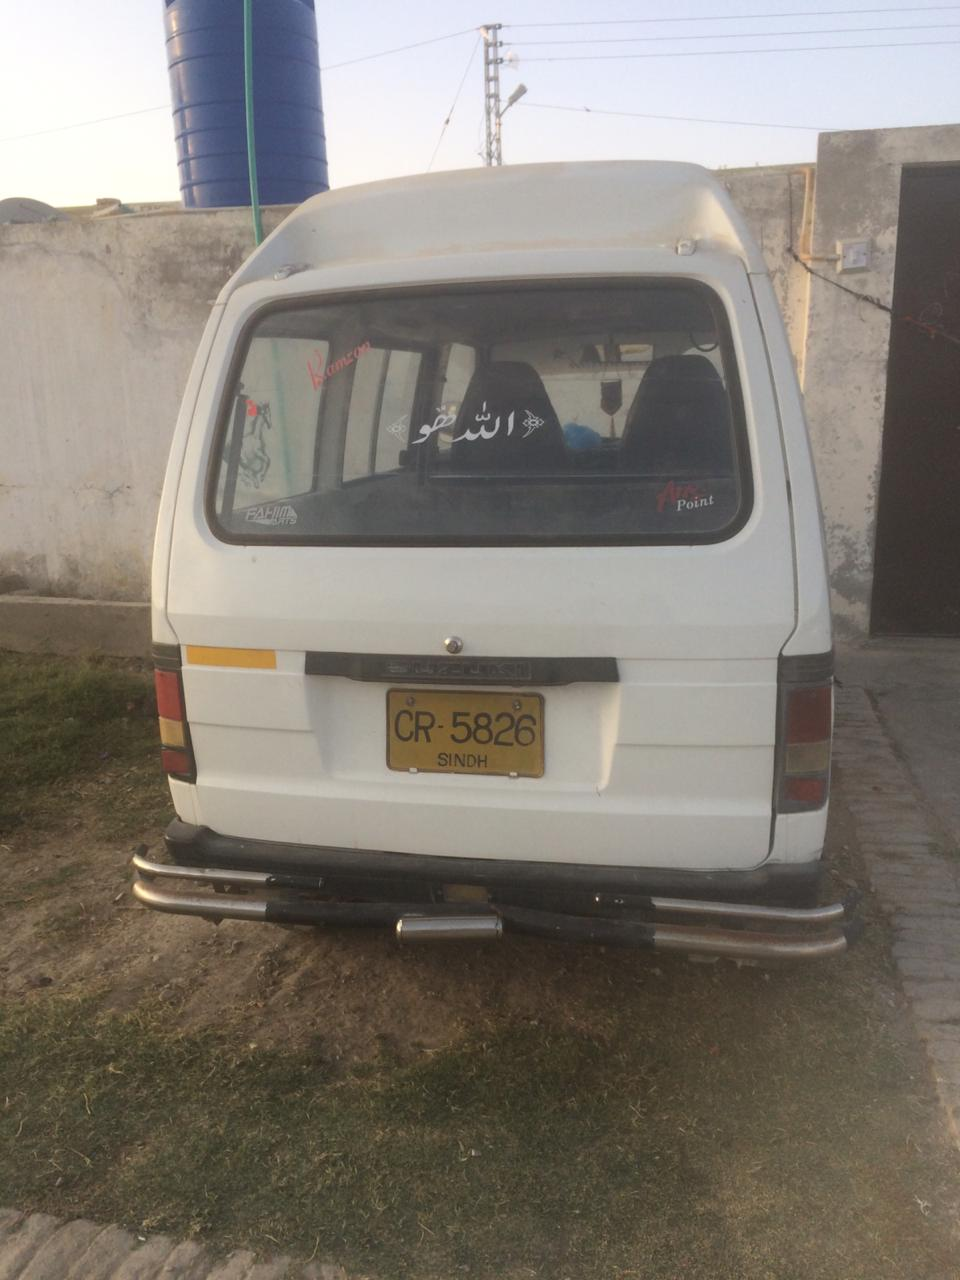license plate: (386, 685, 543, 776)
